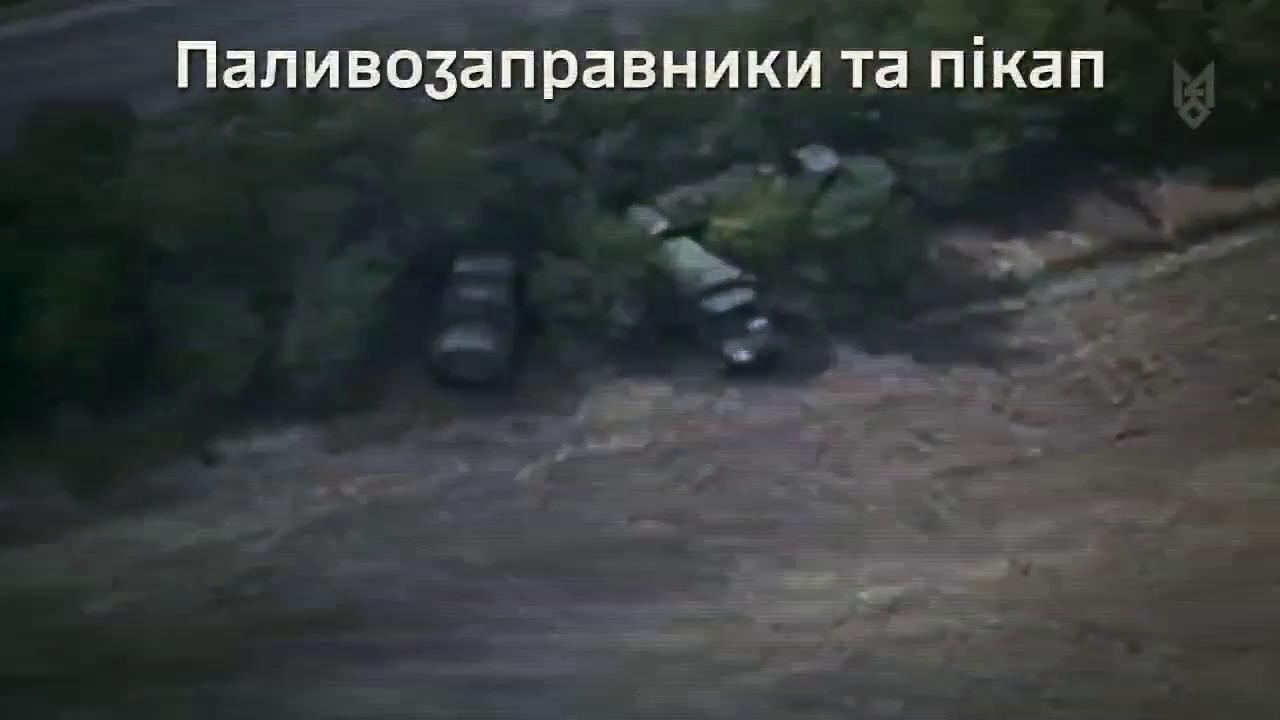tank: (636, 140, 896, 254), (646, 229, 782, 374), (430, 243, 524, 390)
